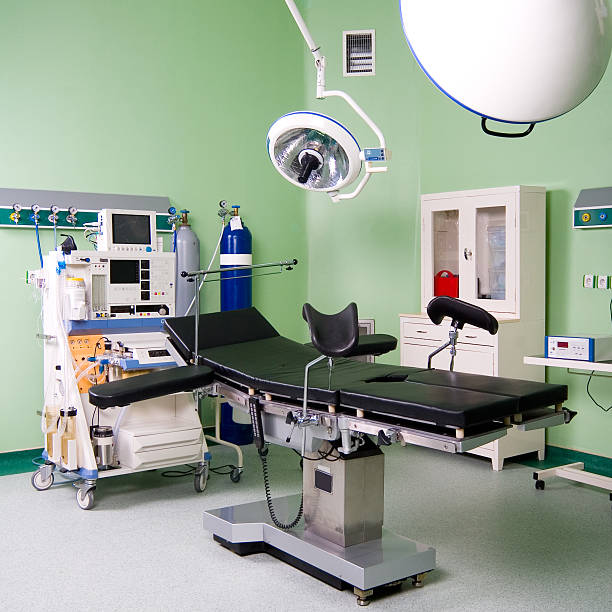bedside_monitor: (96, 210, 158, 254)
breathing_tube: (69, 356, 102, 388)
cabinet: (397, 186, 547, 461)
handle: (464, 247, 472, 260), (465, 335, 477, 340), (416, 330, 427, 335)
operating_bed: (87, 295, 577, 606)
surgical_light: (397, 1, 612, 138), (259, 109, 362, 195)
ventilator: (47, 259, 200, 482)
